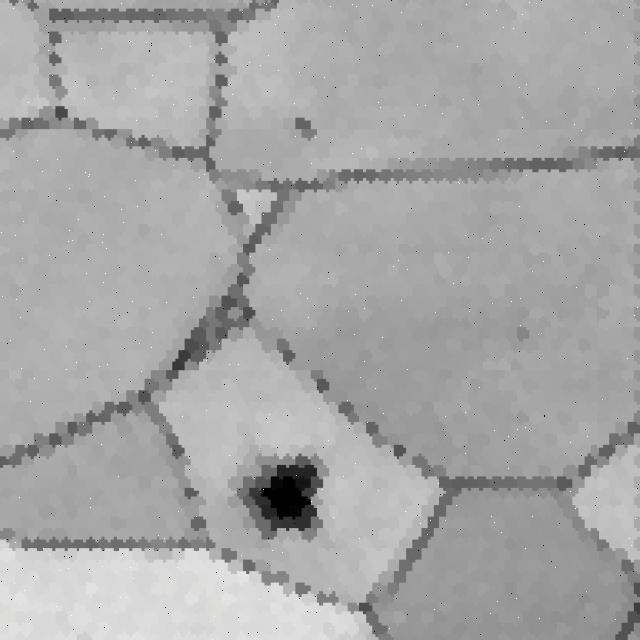good_void: (234, 454, 329, 540), (289, 112, 323, 139)
